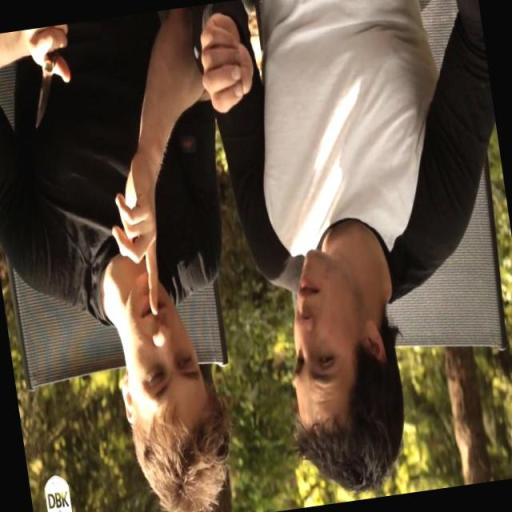knife: (23, 47, 72, 132)
